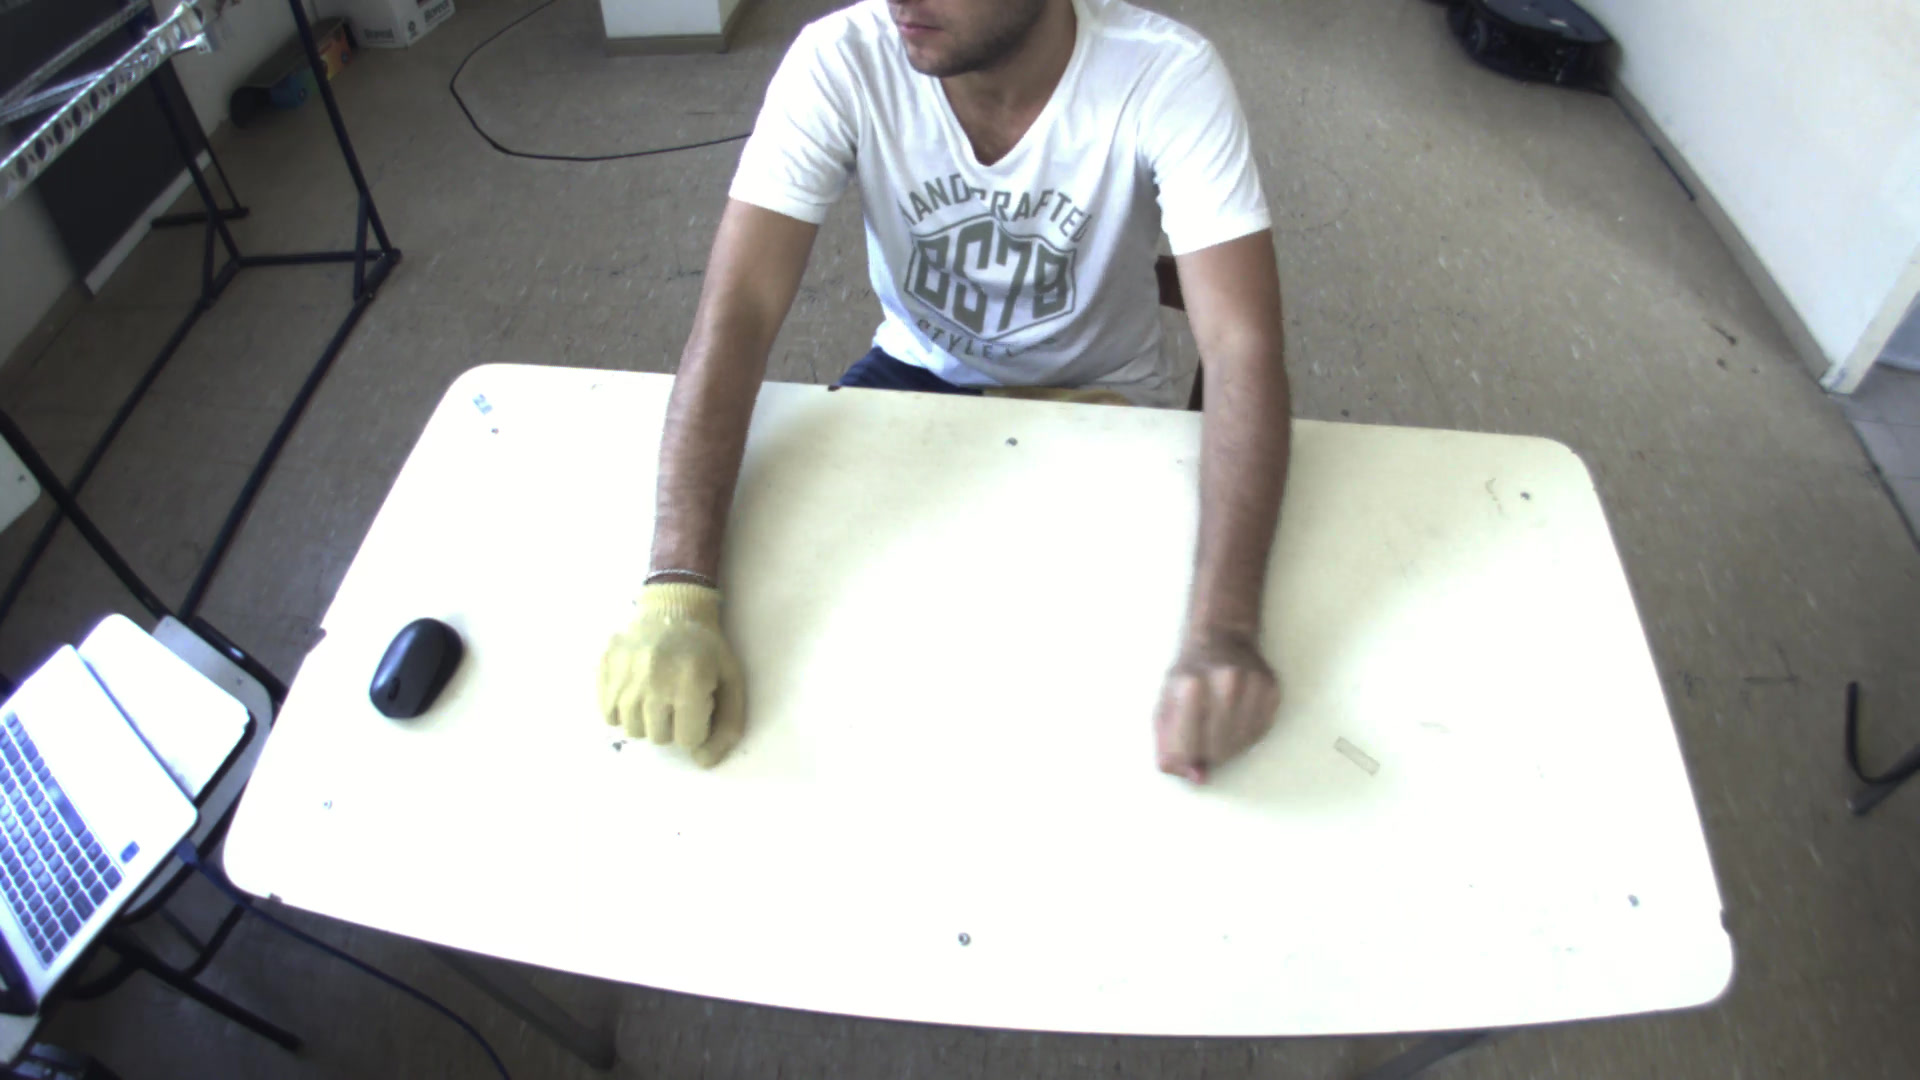hand: (579, 564, 753, 765), (1137, 607, 1294, 803)
